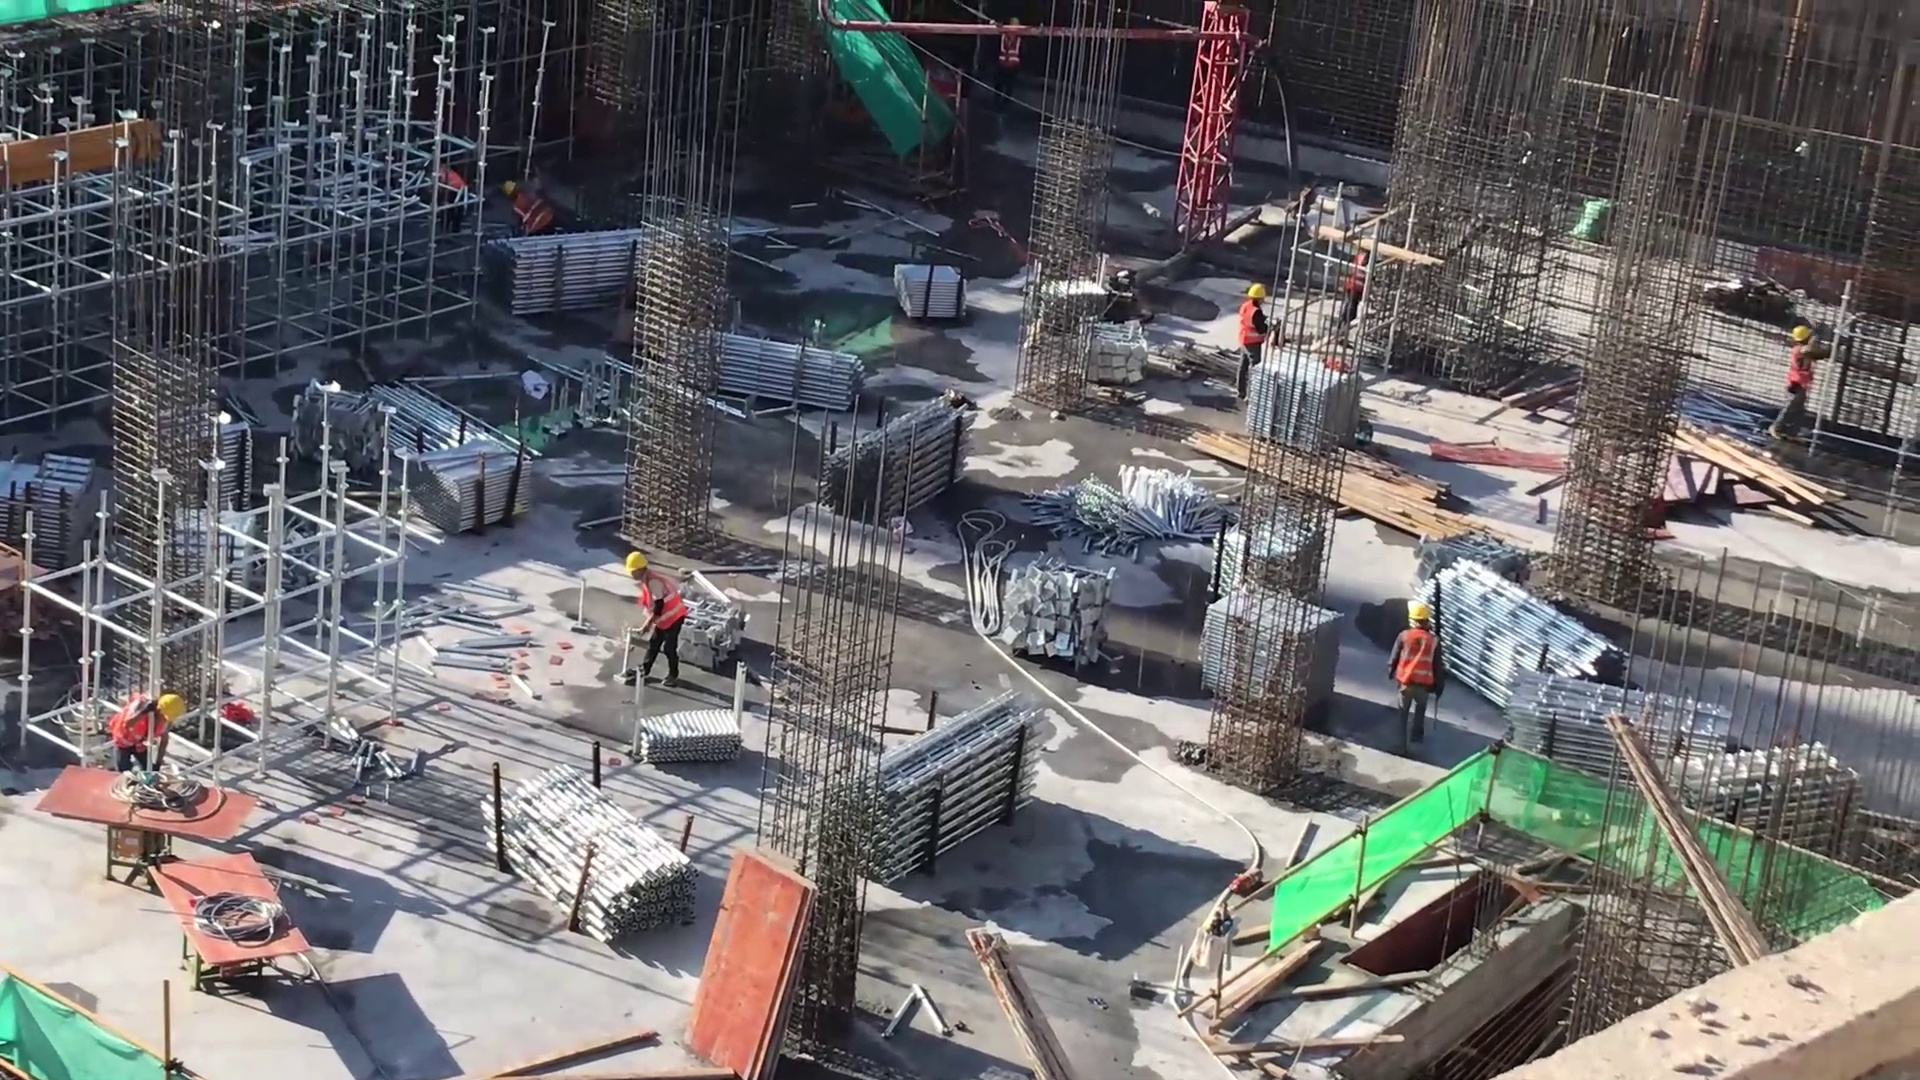board: (675, 851, 825, 1077)
cutter: (151, 837, 325, 1034), (38, 760, 255, 903)
helmet: (626, 544, 651, 589), (158, 691, 188, 728), (1245, 278, 1271, 310), (1406, 601, 1431, 631), (498, 171, 523, 201), (1789, 323, 1814, 347)
person: (1385, 592, 1448, 747), (1770, 323, 1840, 456), (625, 543, 686, 693), (107, 692, 185, 778), (1239, 275, 1279, 414), (995, 12, 1038, 111), (499, 177, 553, 247), (432, 165, 471, 229)
scaffold: (823, 689, 1051, 907), (459, 769, 688, 942), (1409, 555, 1631, 728), (1654, 732, 1873, 881), (1500, 670, 1747, 801), (823, 392, 981, 534), (1, 437, 122, 580), (354, 377, 529, 470), (693, 327, 873, 417), (501, 228, 688, 309), (419, 430, 534, 542)
vest: (110, 693, 165, 755), (1398, 627, 1445, 694), (640, 575, 686, 644), (514, 192, 558, 232), (1240, 300, 1275, 344), (998, 24, 1029, 73)
